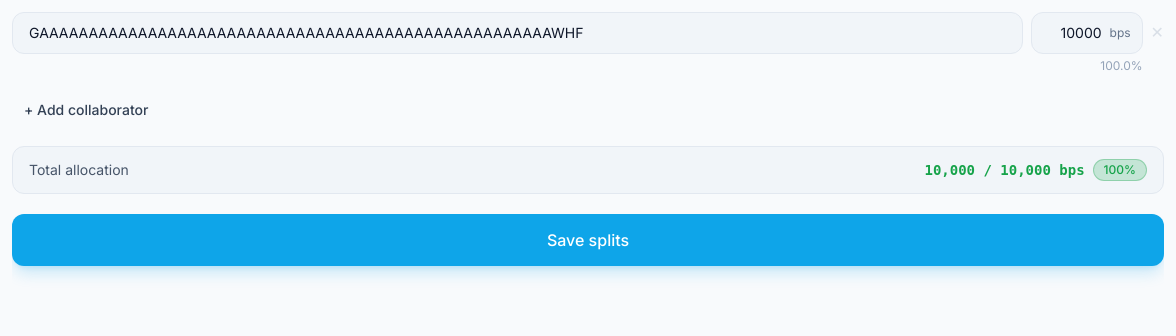
Test: SplitsManager – save › shows success message after save resolves
Click the button named "save collaborator splits": [588, 240] box [12,214,1164,266]
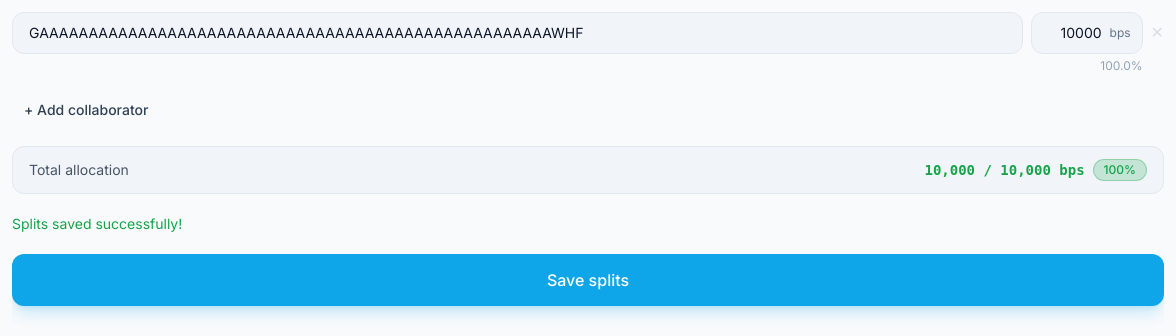
Now the text "Splits saved successfully!" is shown, box [12,215,182,232]
